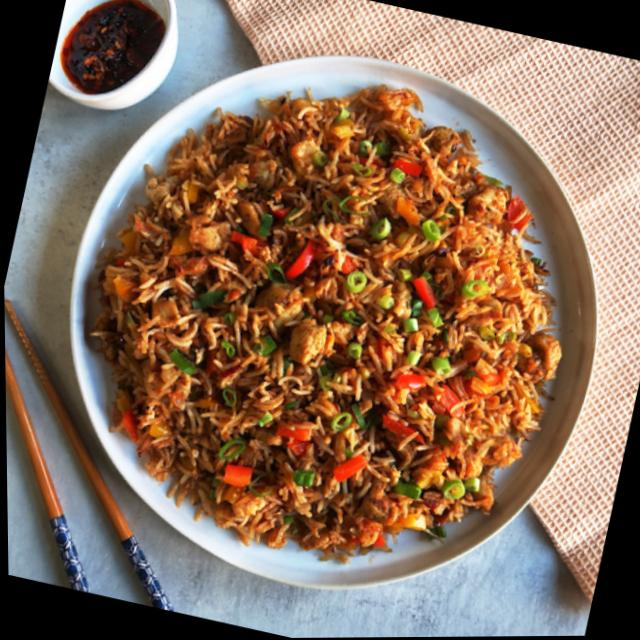Fried Rice: (46, 31, 619, 610)
